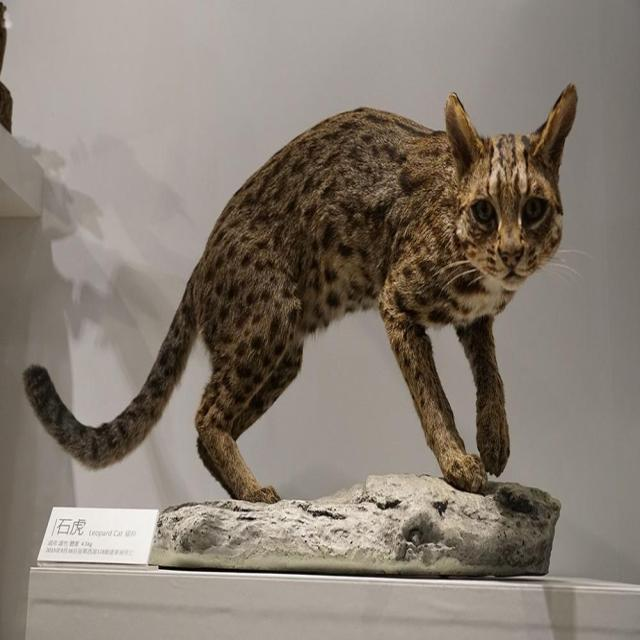leopard: (444, 101, 586, 318), (220, 195, 468, 316)
